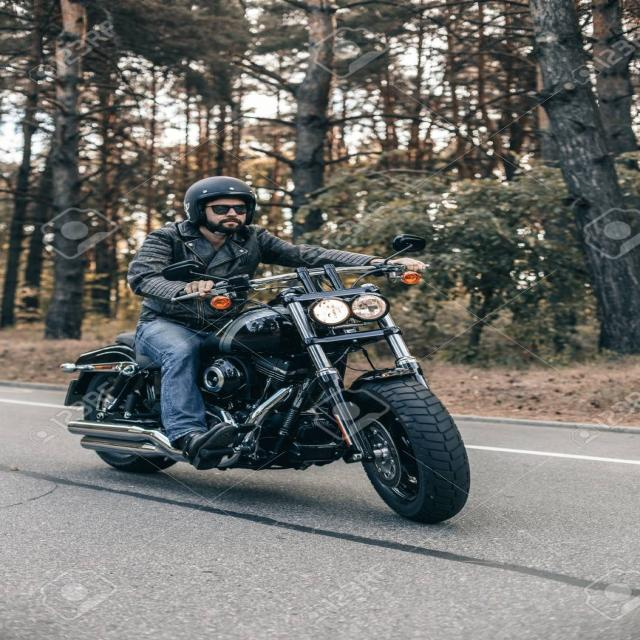MOTORCYCLE: (66, 261, 458, 538)
